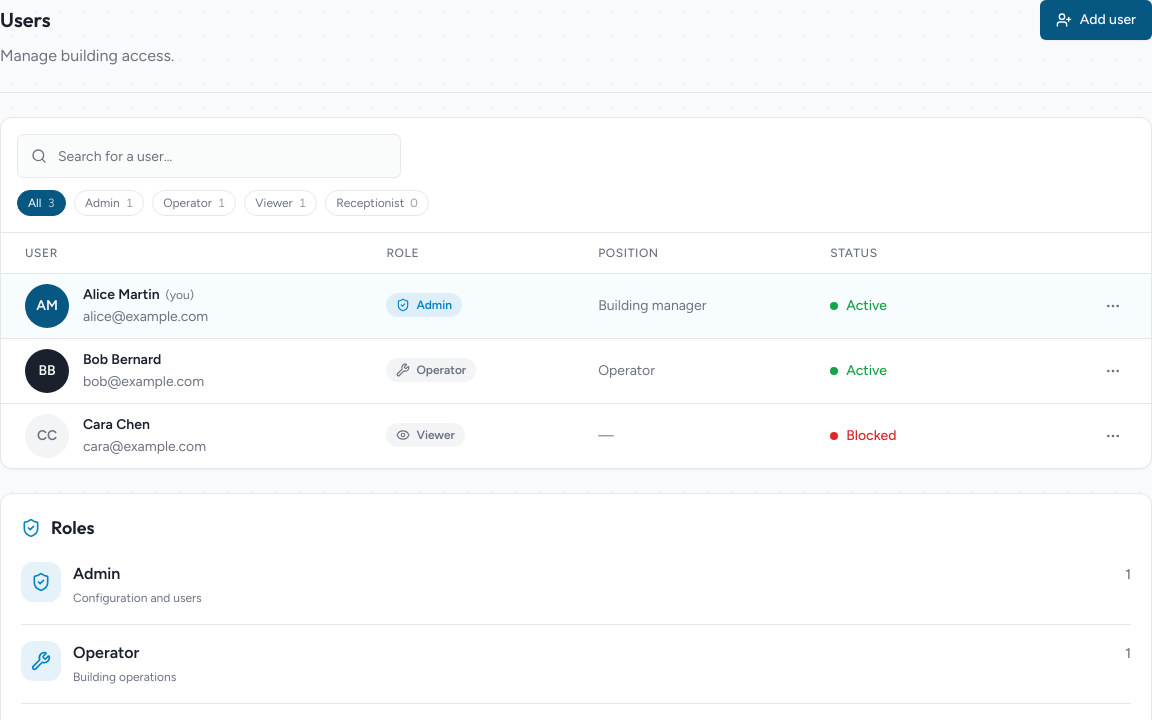
Scenario: UsersPage › opens the selected user in the edit form
Check: the text "Bob Bernard" is shown, box [83,350,161,368]
Click the button named "Open actions for Bob Bernard" at (1113, 370), box [1095,352,1131,388]
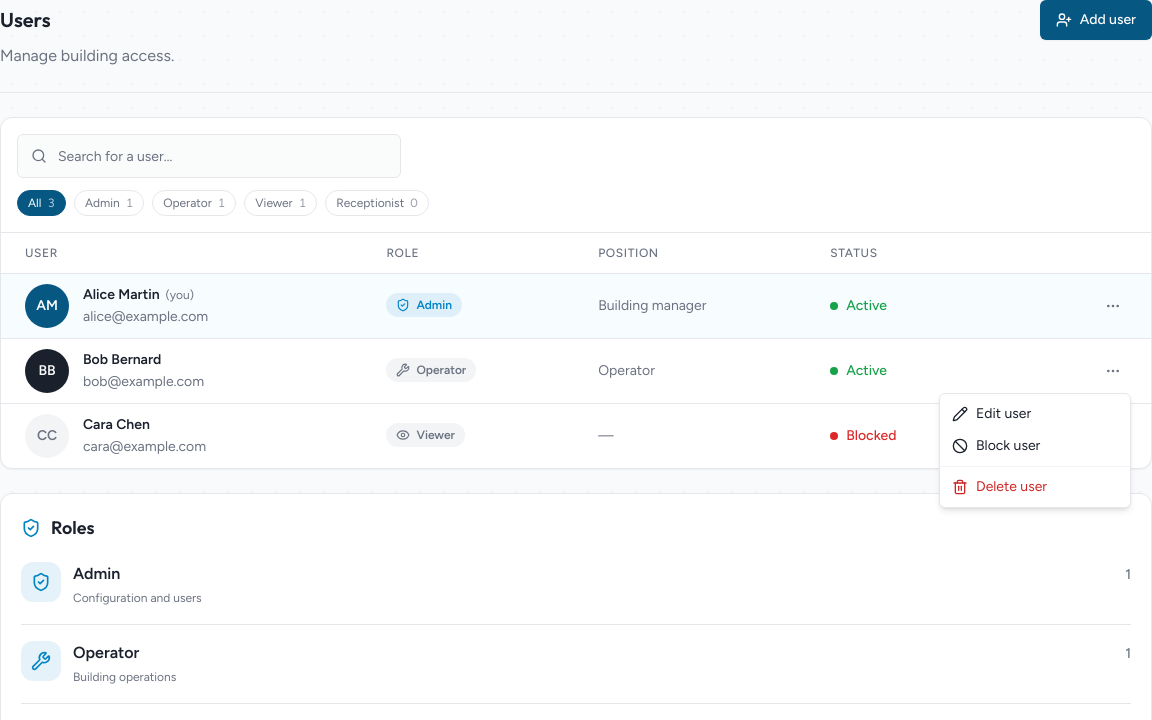
Click the menu item "Edit user" at (992, 414), box [952,405,1031,422]
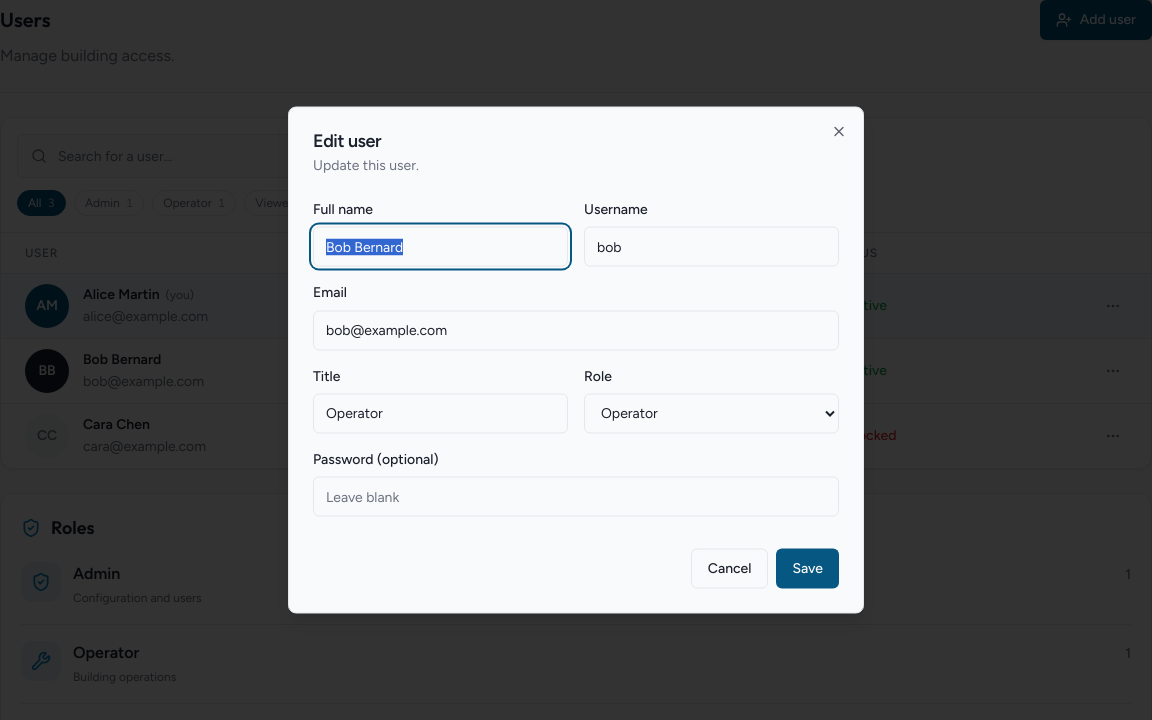
Check: the dialog "Edit user" is shown, box [288,106,864,614]
Check: the field labelled "Username" holds "bob", box [584,227,839,267]
Check: the field labelled "Full name" holds "Bob Bernard", box [313,227,568,267]
